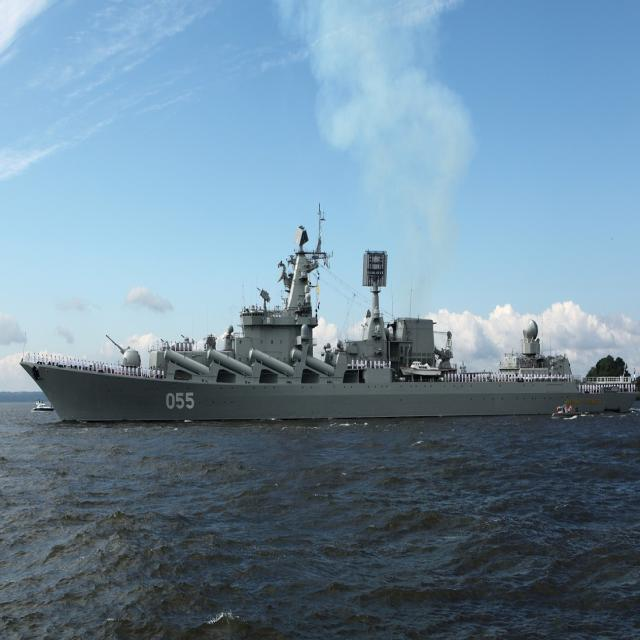navalvessels: (12, 175, 640, 454)
